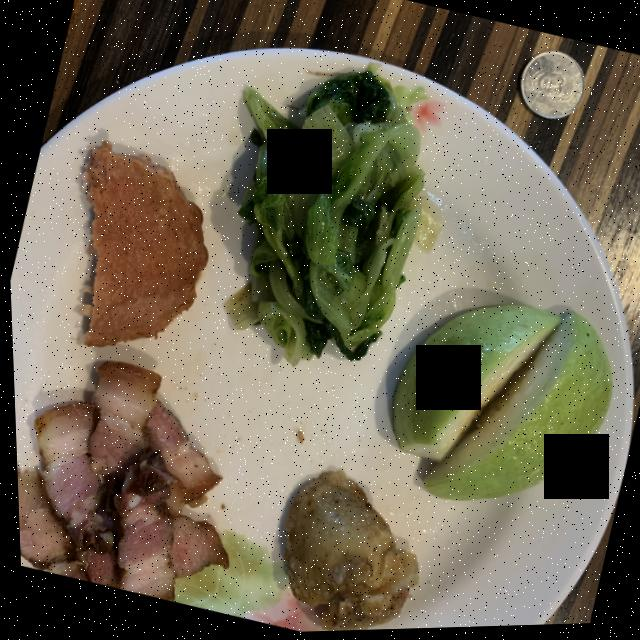Spam: (80, 142, 206, 347)
coin: (519, 54, 584, 122)
fried potato: (279, 472, 414, 633)
grilled pork: (14, 362, 224, 601)
guava -sliced-: (389, 308, 609, 503)
mustard greens: (224, 71, 422, 366)
